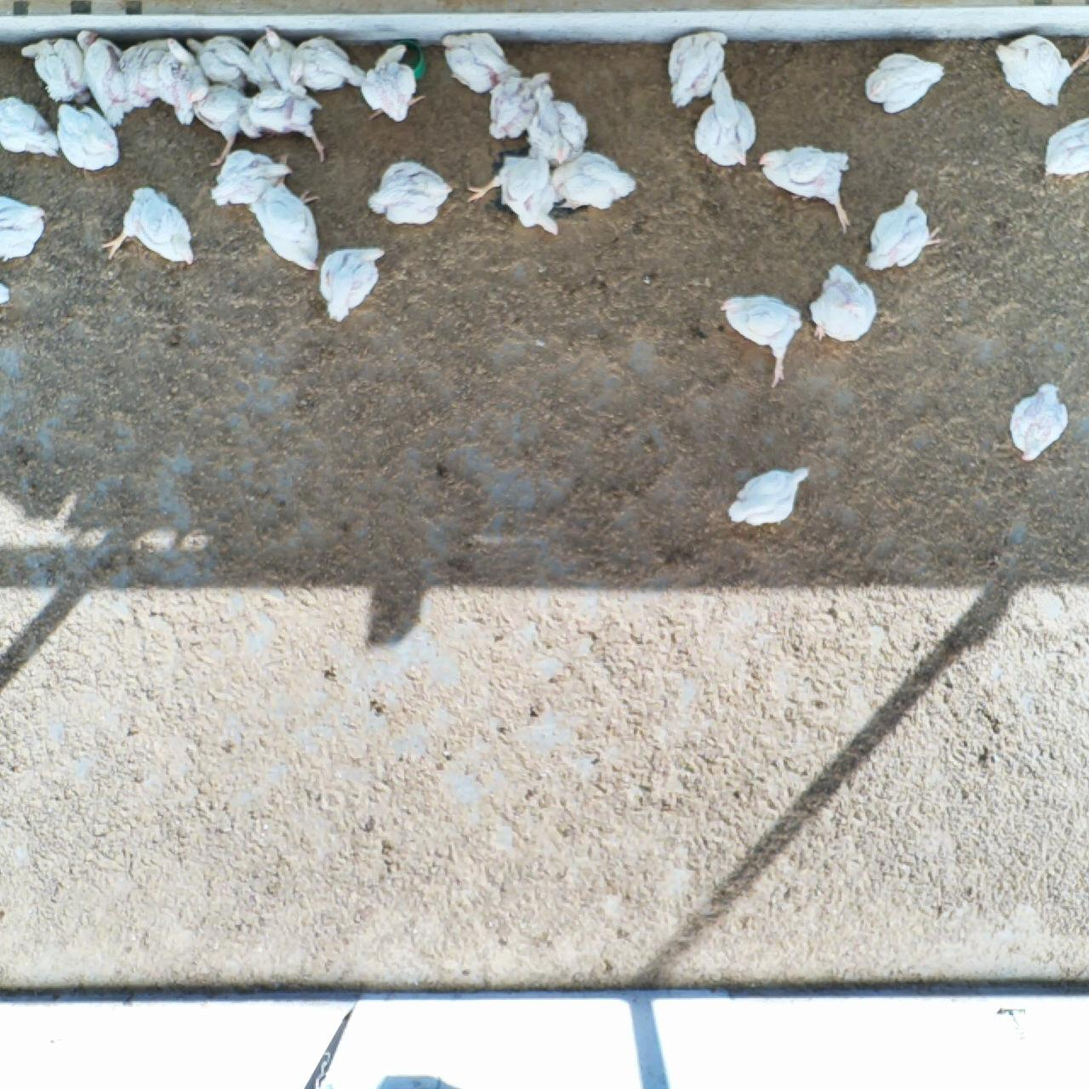chicken: (716, 294, 806, 388), (256, 153, 327, 269), (469, 153, 564, 237), (104, 183, 197, 267), (757, 145, 850, 227), (994, 34, 1089, 109), (183, 78, 259, 162), (152, 34, 214, 134), (869, 191, 939, 279), (720, 465, 812, 529), (809, 261, 877, 346), (693, 75, 756, 165), (862, 48, 946, 114), (216, 145, 296, 214), (552, 151, 638, 215), (82, 32, 137, 128), (1007, 379, 1068, 464), (365, 43, 426, 125), (443, 31, 521, 94), (313, 249, 384, 318), (532, 88, 594, 167), (48, 104, 123, 169), (246, 27, 311, 102), (21, 33, 89, 103), (186, 33, 259, 96), (369, 162, 444, 222), (1, 91, 66, 158), (669, 32, 725, 108), (279, 37, 359, 89), (488, 78, 555, 137), (1039, 117, 1089, 178), (120, 40, 165, 107), (1, 191, 43, 257), (1, 278, 14, 306)
